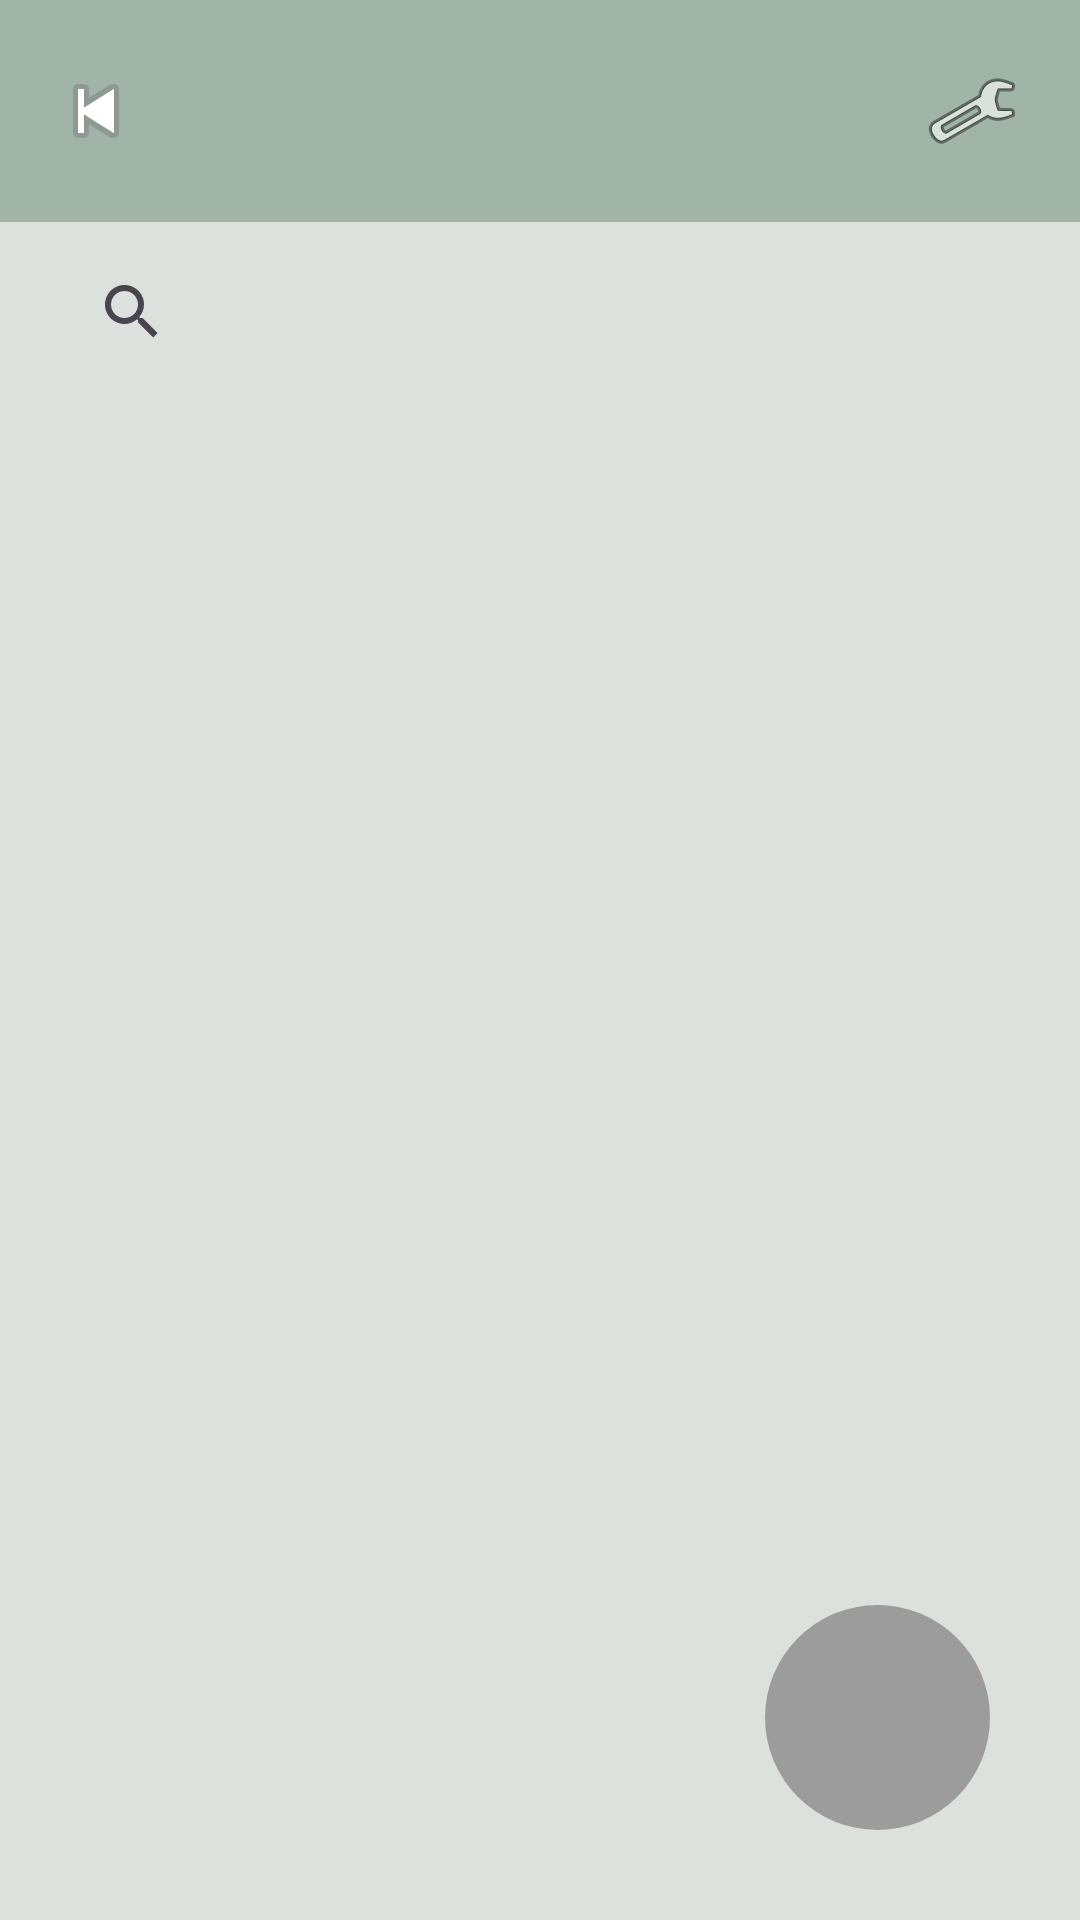

Icon bounding boxes for this 1080*1920 phone screenshot, format [x1, y1, x2, y2]:
manage: [929, 78, 1015, 144]
previous: [73, 84, 119, 138]
